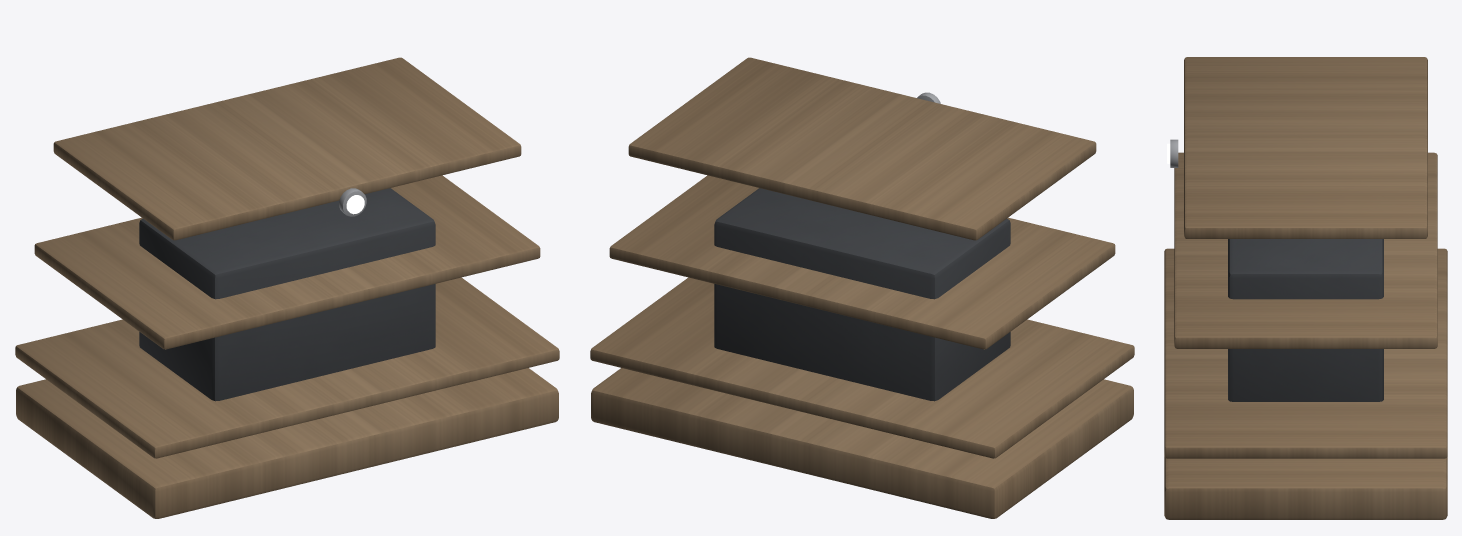
Rendered from pf_display_luxury_display_island_t2.glb.
3 renders of one model, left to right at view 1: azimuth 30°, elevation 25°; view 2: azimuth 150°, elevation 25°; view 3: azimuth 270°, elevation 25°, orthographic.
Visible parts, largest first — view 1: Island_Deck_03, Island_Core, Island_Deck_01, Island_Base, Island_Deck_02; view 2: Island_Deck_03, Island_Core, Island_Deck_01, Island_Base, Island_Deck_02; view 3: Island_Deck_03, Island_Deck_01, Island_Deck_02, Island_Core, Island_Base.
Part boxes in pixels (left/top/right/bottom): Island_Deck_03: left=53, top=57, right=521, bottom=240; Island_Core: left=139, top=188, right=435, bottom=401; Island_Deck_01: left=15, top=277, right=559, bottom=458; Island_Base: left=16, top=368, right=558, bottom=518; Island_Deck_02: left=34, top=175, right=540, bottom=349; Island_Deck_03: left=628, top=57, right=1096, bottom=240; Island_Core: left=714, top=188, right=1010, bottom=401; Island_Deck_01: left=590, top=277, right=1134, bottom=458; Island_Base: left=591, top=368, right=1133, bottom=518; Island_Deck_02: left=609, top=175, right=1115, bottom=349; Island_Deck_03: left=1184, top=57, right=1427, bottom=238; Island_Deck_01: left=1164, top=248, right=1447, bottom=458; Island_Deck_02: left=1174, top=152, right=1437, bottom=348; Island_Core: left=1228, top=239, right=1383, bottom=401; Island_Base: left=1164, top=456, right=1447, bottom=519.
Bounding box in the file's own units: 1.5 × 1.08 × 0.9.
Materials: 5 (2 with a texture image).
